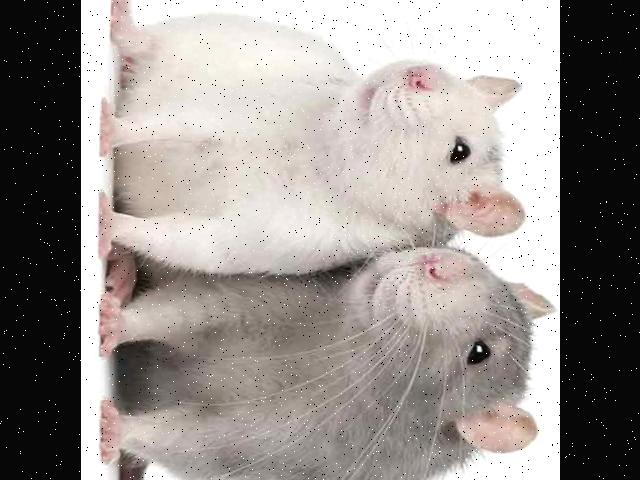Tikus: (88, 0, 542, 262), (96, 250, 556, 480)
